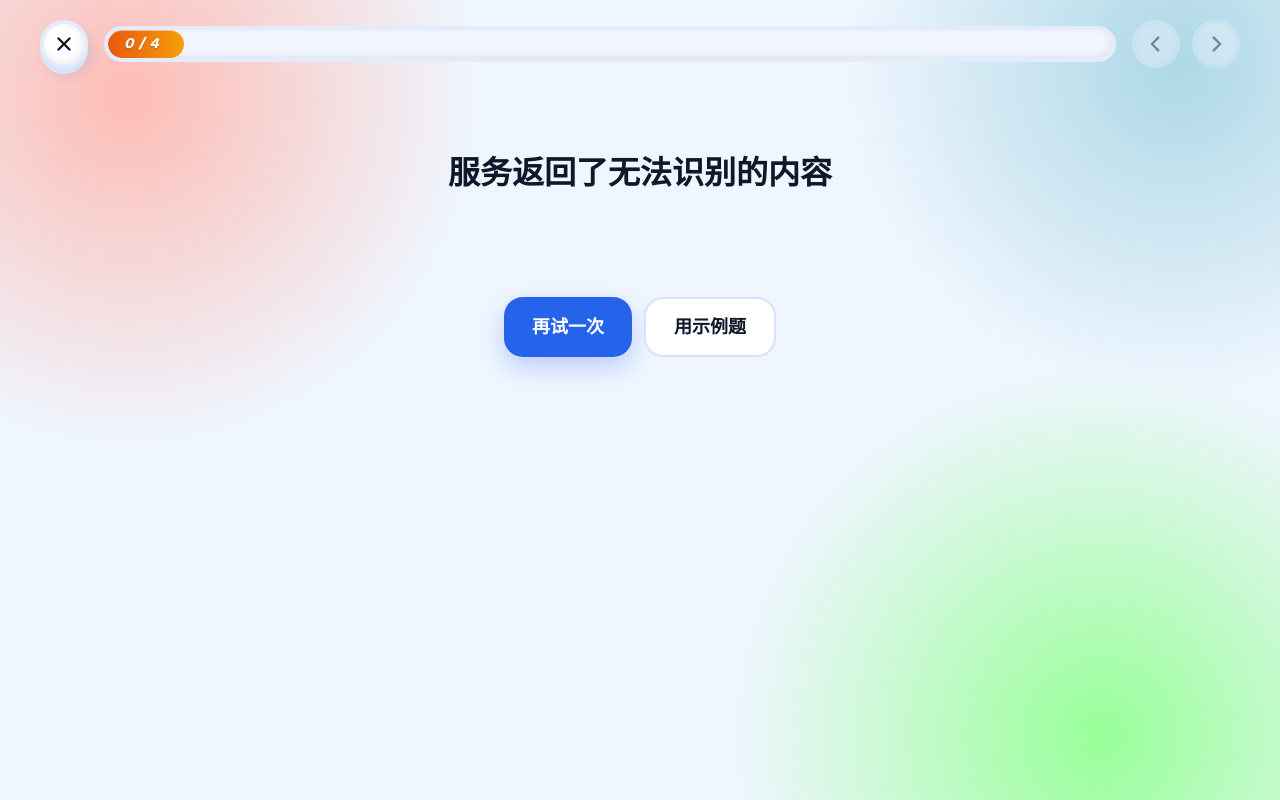
Test: question type answering pages › shows the choice question like a kid practice screen
This screenshot has width=1280, height=800.
Click the button "用示例题".
click(710, 327)  # box [644,297,776,357]
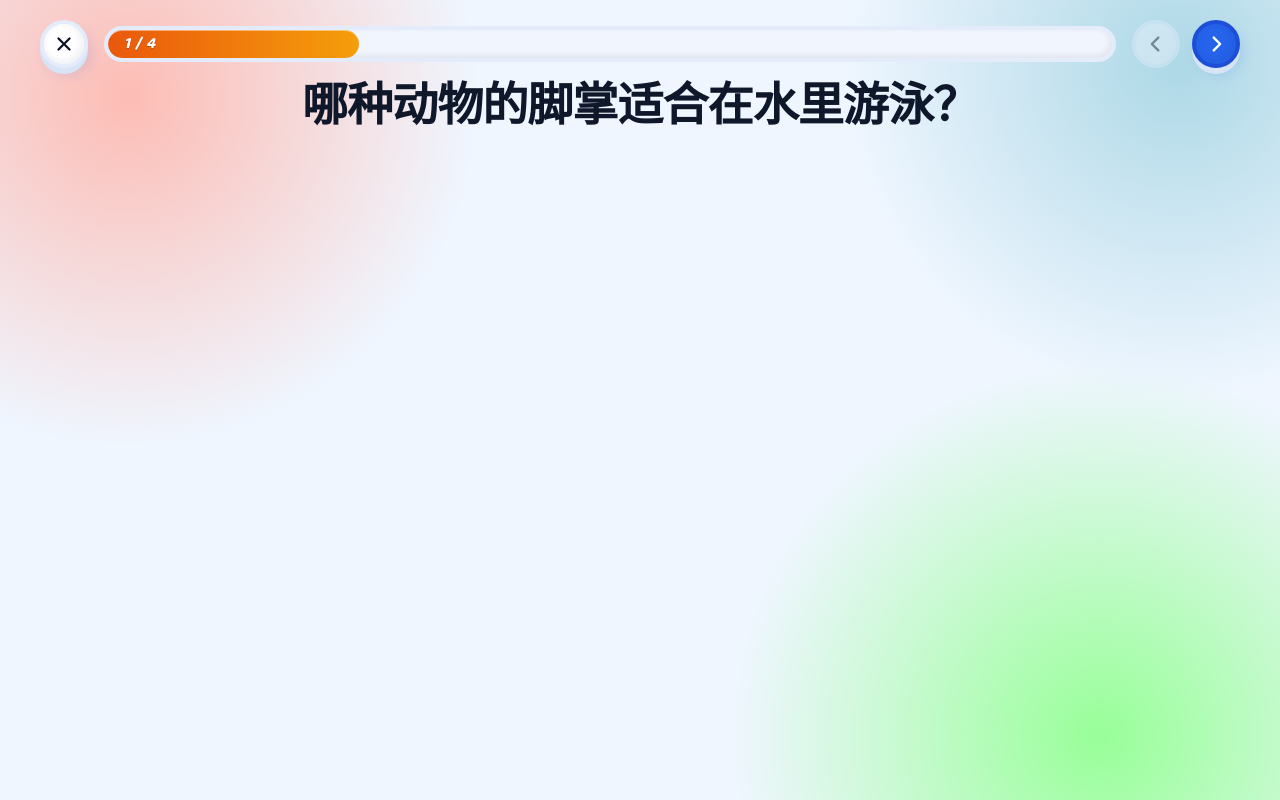
Expected: the text "1 / 4" is shown, [124,36,156,52]
Expected: the heading "哪种动物的脚掌适合在水里游泳？" is shown, [302,71,978,145]
